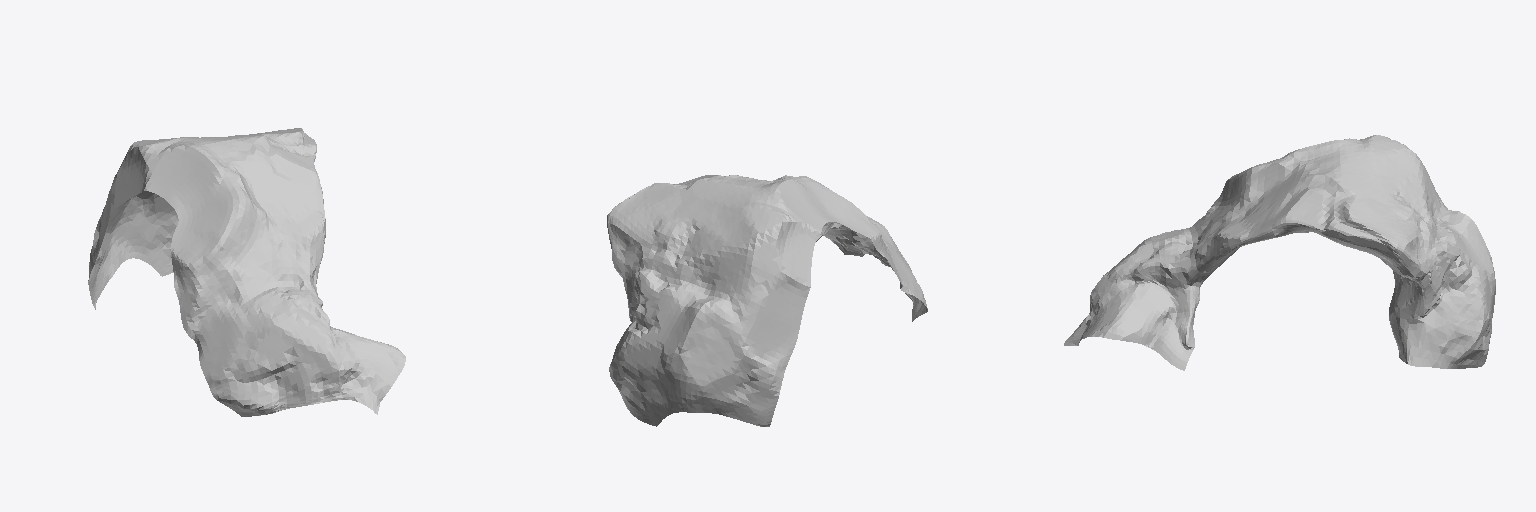
Rendered from Cavern.OBJ.
3 renders of one model, left to right at view 1: azimuth 30°, elevation 25°; view 2: azimuth 150°, elevation 25°; view 3: azimuth 270°, elevation 25°, orthographic.
Parts seen in each view (by area): view 1: Group16169; view 2: Group16169; view 3: Group16169.
Part boxes in pixels (bbox=[...]): Group16169: bbox=[88, 128, 405, 416]; Group16169: bbox=[607, 175, 927, 426]; Group16169: bbox=[1064, 135, 1495, 370].
Bounding box in the file's own units: 79.59 × 72.52 × 145.